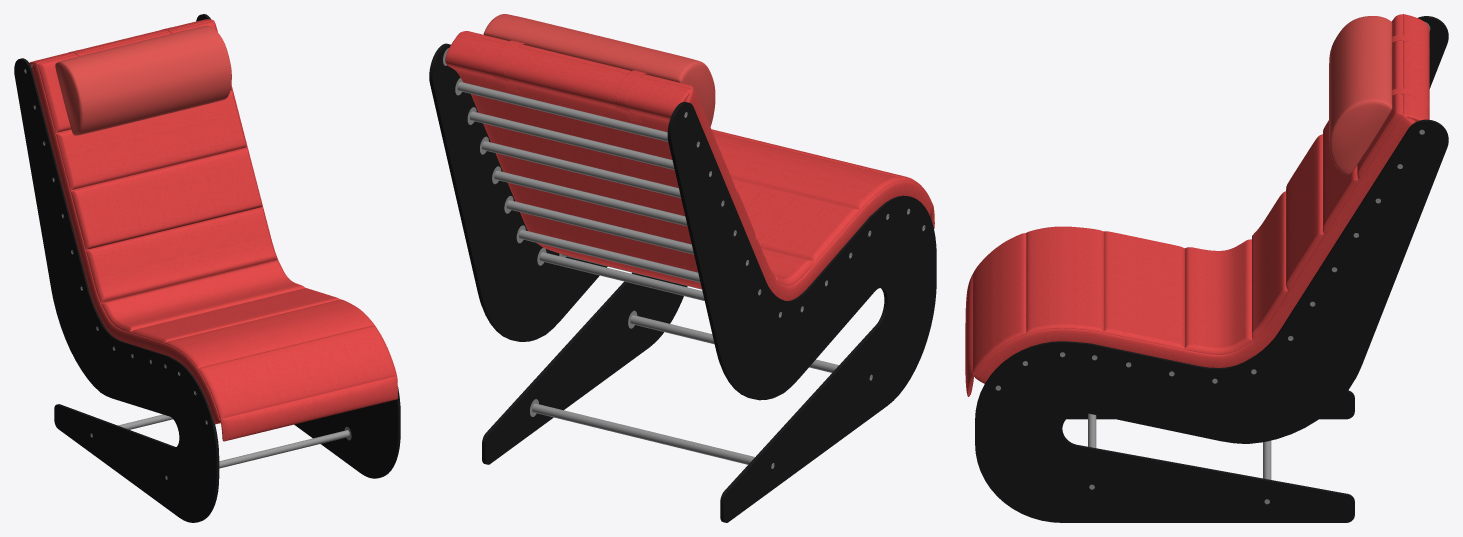
File: angel-poltrona-clun-289.glb
The picture shows the model from 3 angles, left to right: view 1: azimuth 30°, elevation 25°; view 2: azimuth 150°, elevation 25°; view 3: azimuth 270°, elevation 25°; orthographic projection. The views are drawn at different scales.
Parts seen in each view (by area): view 1: angel-seduta, angel-struttura, angel-tubolare; view 2: angel-struttura, angel-seduta, angel-tubolare; view 3: angel-struttura, angel-seduta, angel-tubolare.
Part boxes in pixels (left/top/right/bottom): angel-seduta: left=29, top=19, right=397, bottom=441; angel-struttura: left=14, top=14, right=400, bottom=522; angel-tubolare: left=24, top=66, right=351, bottom=479; angel-struttura: left=429, top=43, right=936, bottom=522; angel-seduta: left=445, top=14, right=934, bottom=300; angel-tubolare: left=443, top=48, right=925, bottom=468; angel-struttura: left=975, top=16, right=1448, bottom=522; angel-seduta: left=965, top=14, right=1429, bottom=396; angel-tubolare: left=995, top=22, right=1430, bottom=504.
Size of the model in its own units: 0.5685 by 1.04 by 1.1.
Materials: 3 (1 with a texture image).
